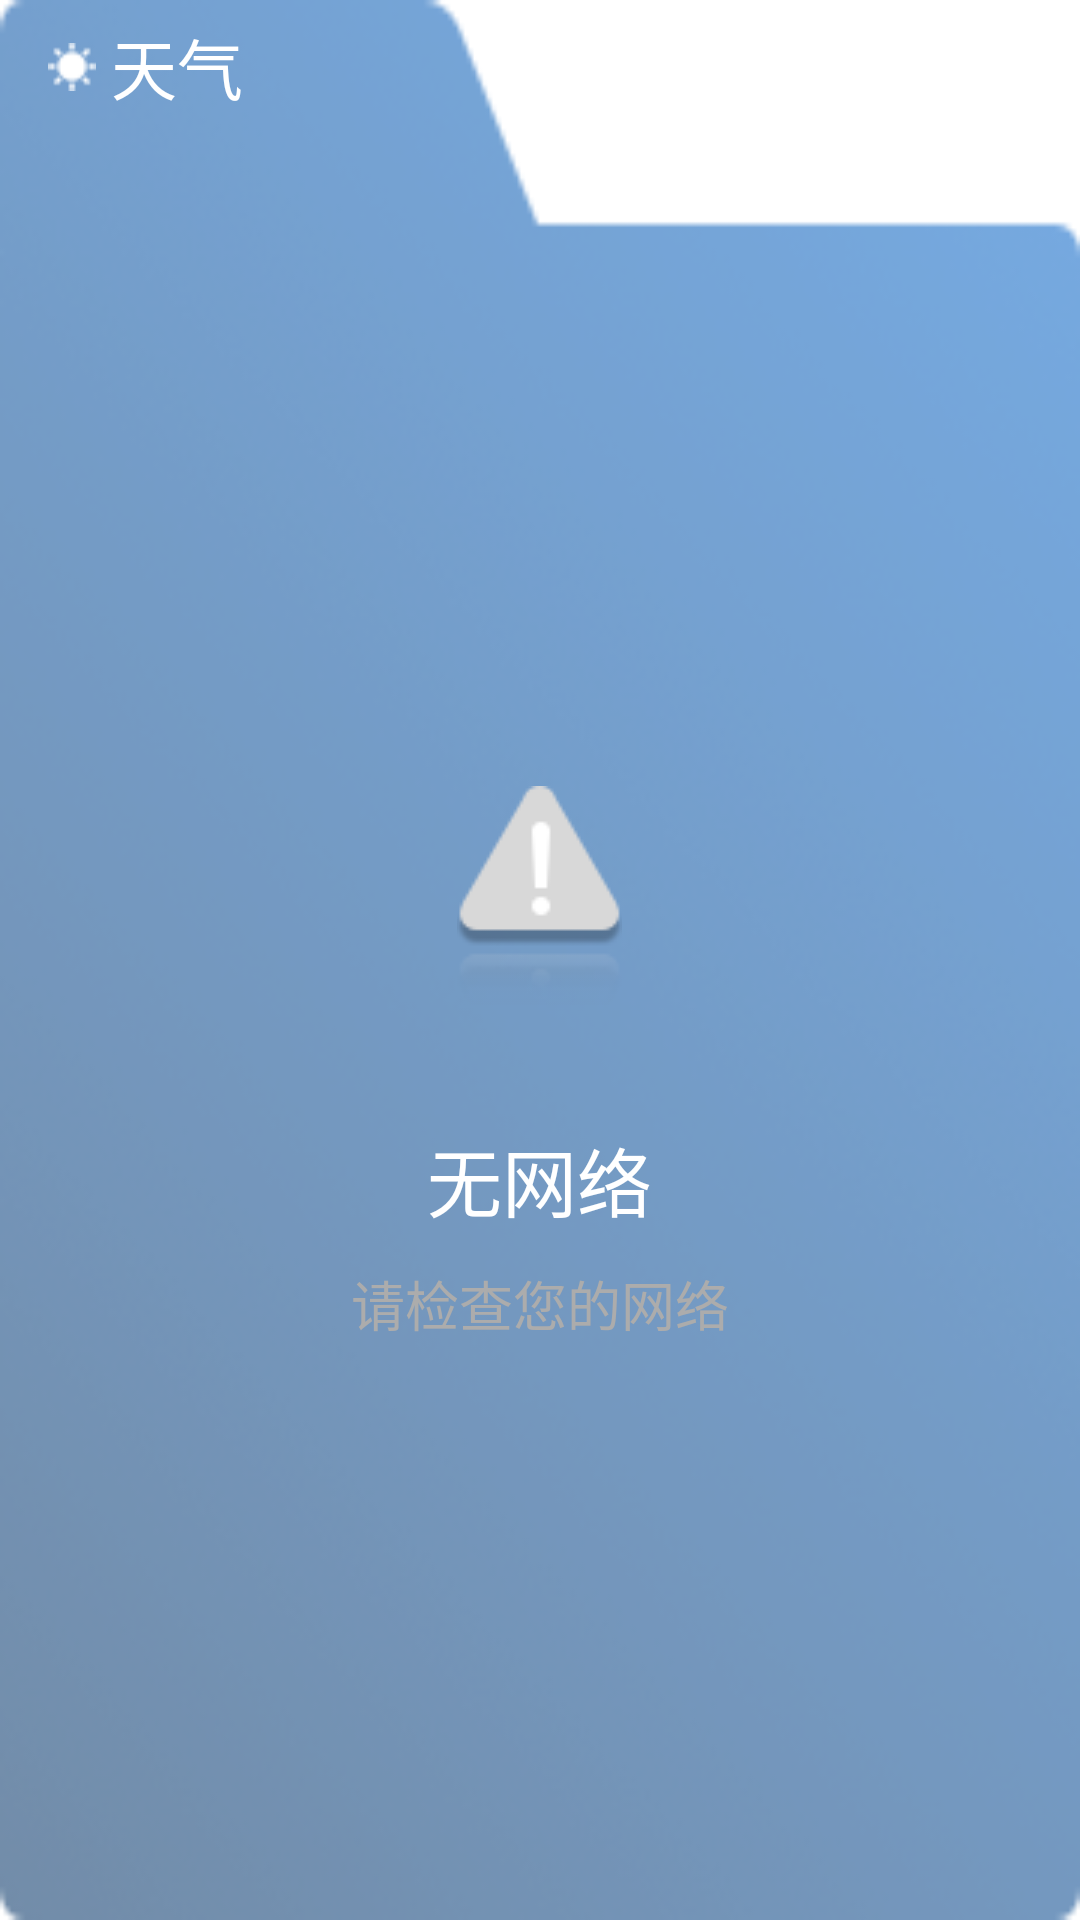

Where icons sit on this 1080px×1920px app screen, as (x1, y1, x2, y2):
home nosignel: (459, 786, 620, 943)
